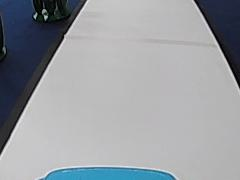corn: (29, 0, 70, 24)
